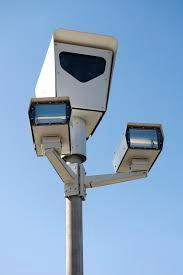Speed-Camera: (17, 21, 171, 181)
